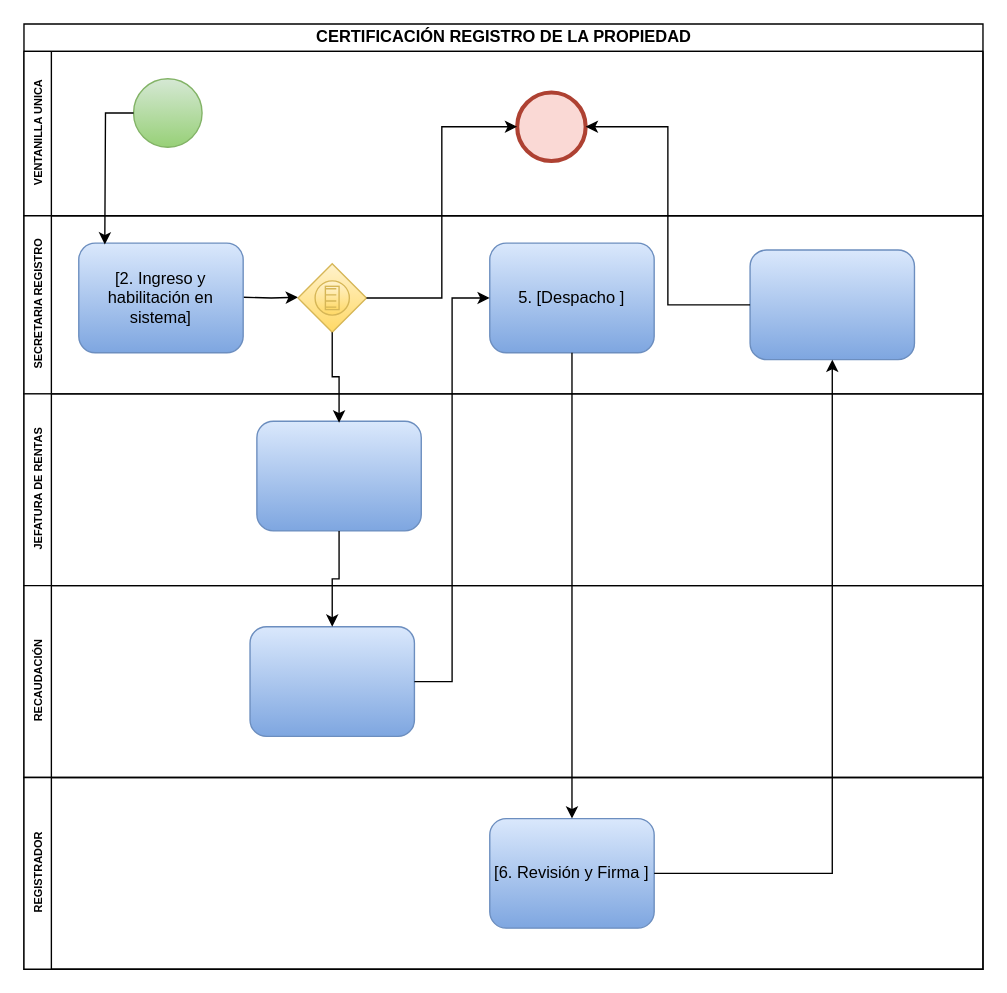
This 1007x993 diagram has some shape labels left out. Each missing label, with the centre of its shape:
[1. Inicio ]: pixel 167 112
[3. Facturación]: pixel 338 475
[4. Recaudación ]: pixel 331 680
[7. Cierre Sistema ]: pixel 831 304
[8. Fin ]: pixel 551 126
